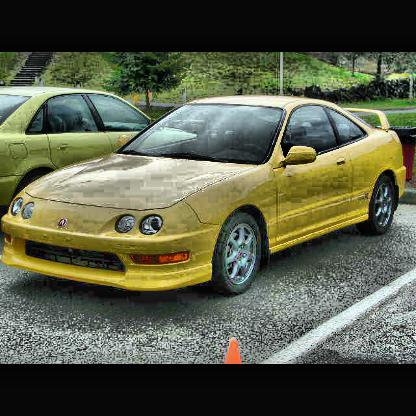Acura Integra Type R 2001: (2, 92, 410, 299)
